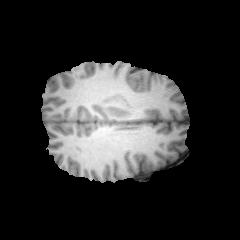glioma: (94, 93, 133, 117)
